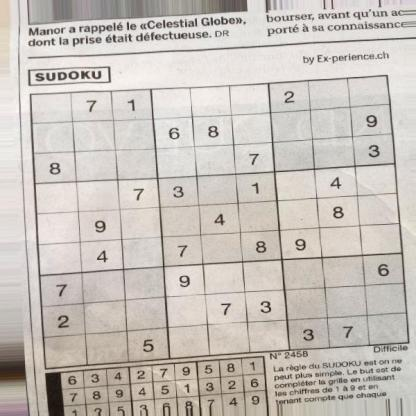sudoku: (27, 72, 413, 371)
